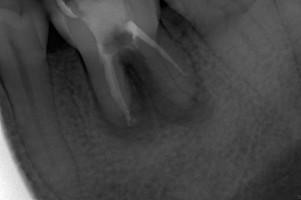Dental Caries: (103, 53, 214, 139)
